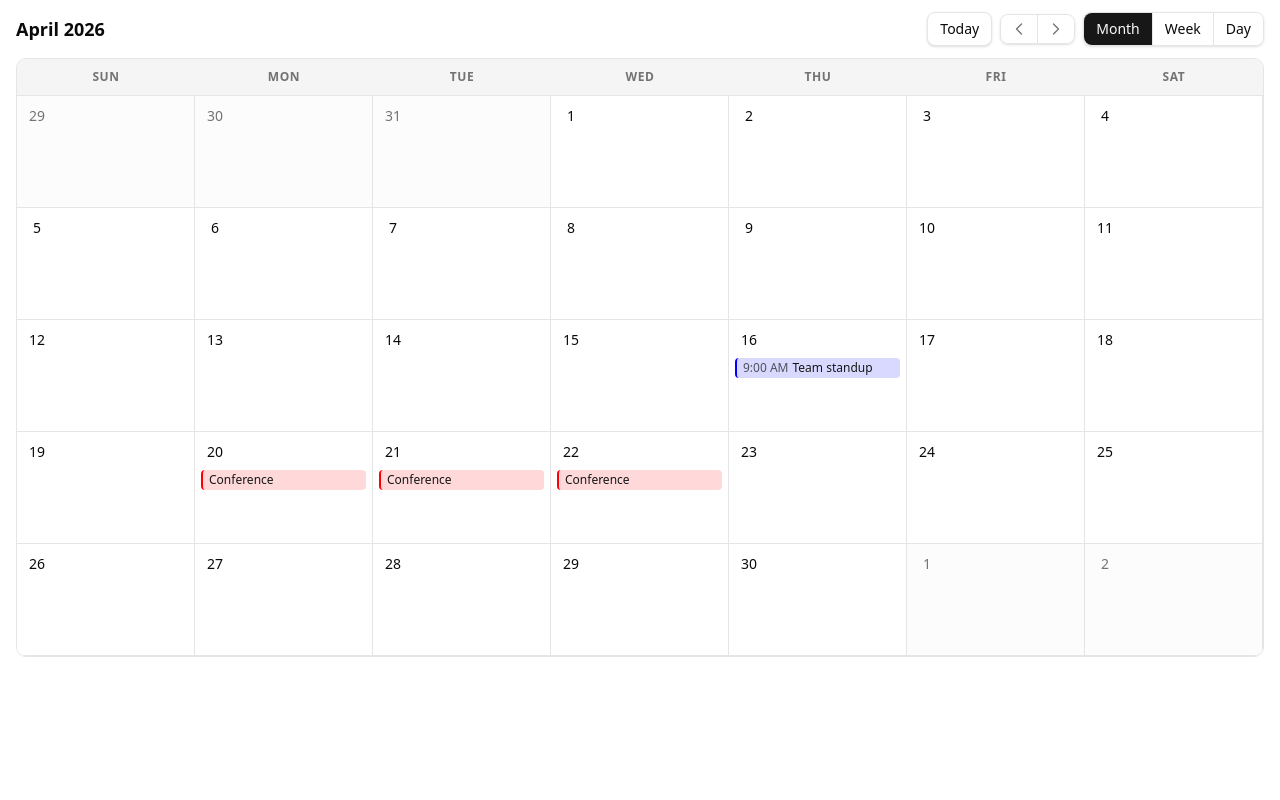
Calendar component › navigates to next month
Click the button named "Next" at (1056, 29), box [1037,15,1074,43]
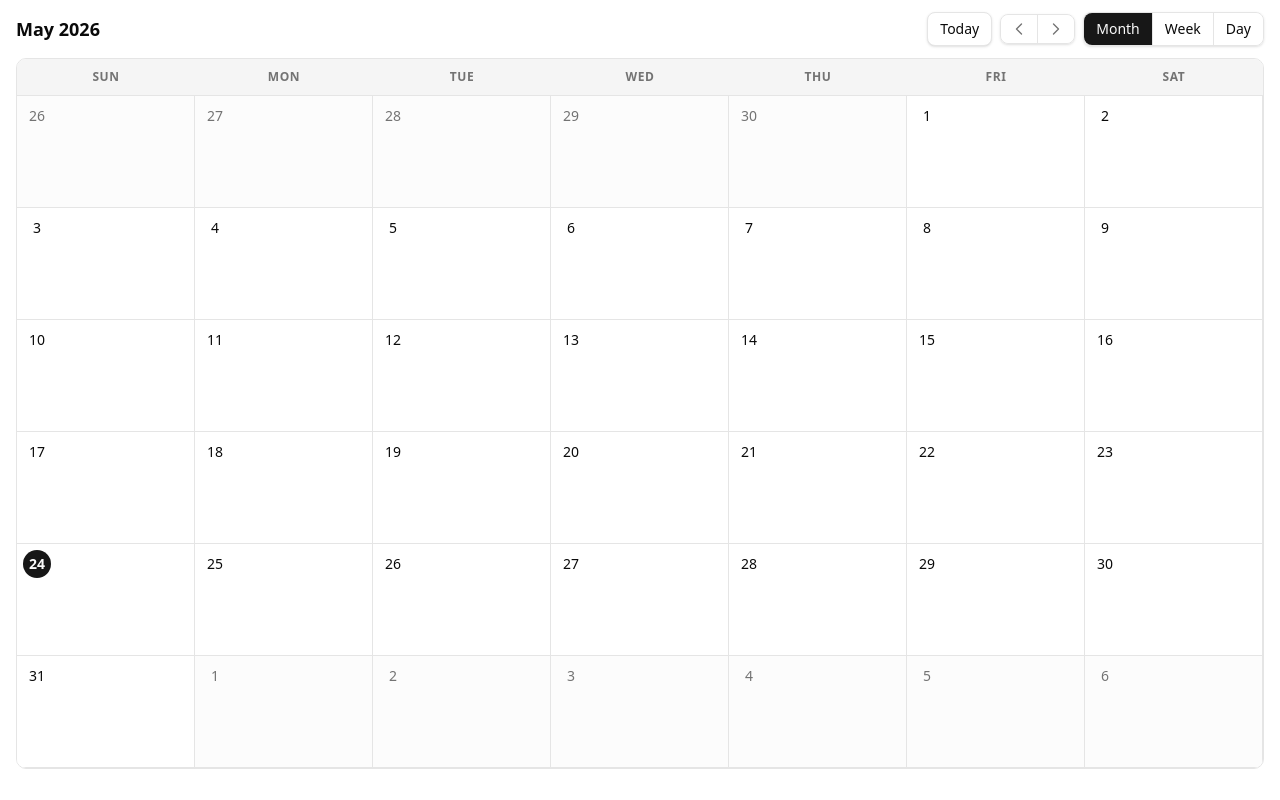
Now the heading "May 2026" is shown, box [16,15,100,43]
